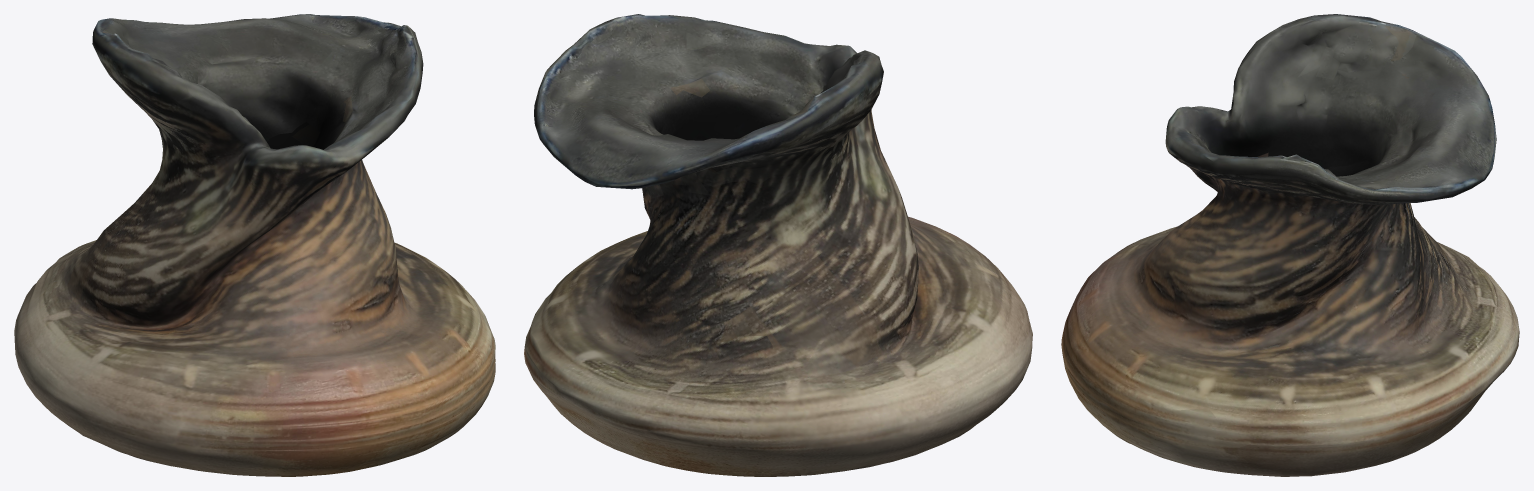
The model's file is abtahipot.glb.
3 views of the same model, side by side, from view 1: azimuth 30°, elevation 25°; view 2: azimuth 150°, elevation 25°; view 3: azimuth 270°, elevation 25° (orthographic). The views are drawn at different scales.
Parts seen in each view (by area): view 1: Abtahi; view 2: Abtahi; view 3: Abtahi.
Part boxes in pixels (x1=…): Abtahi: x1=14, y1=14, x2=495, y2=476; Abtahi: x1=524, y1=14, x2=1032, y2=476; Abtahi: x1=1061, y1=14, x2=1519, y2=476.
Bounding box in the file's own units: 1.65 × 1.32 × 1.66.
1 material, 1 textured.
